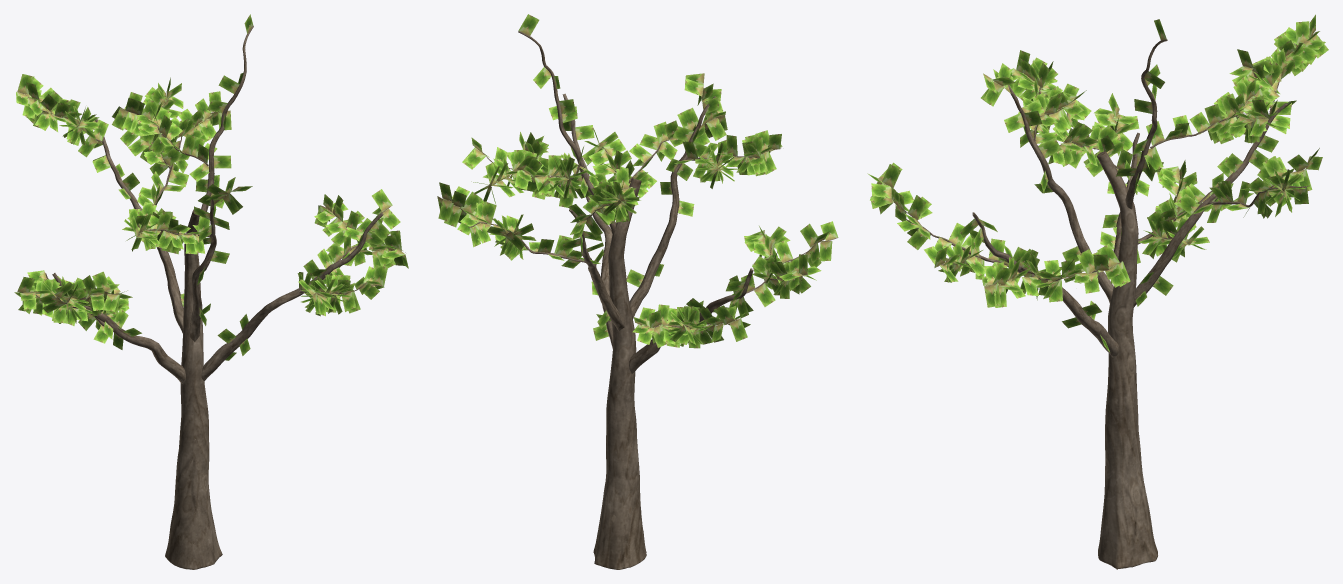
File: tree.fbx
3 views of the same model, side by side, from view 1: azimuth 30°, elevation 25°; view 2: azimuth 150°, elevation 25°; view 3: azimuth 270°, elevation 25° (orthographic). The views are drawn at different scales.
Parts seen in each view (by area): view 1: Tree_v1_001; view 2: Tree_v1_001; view 3: Tree_v1_001.
Boxes of the visible parts, <box> form: Tree_v1_001: <box>14,14,408,569</box>; Tree_v1_001: <box>437,14,838,569</box>; Tree_v1_001: <box>867,14,1328,569</box>.
Size of the model in its own units: 0.9492 by 1.31 by 0.9553.
1 material, 1 textured.
